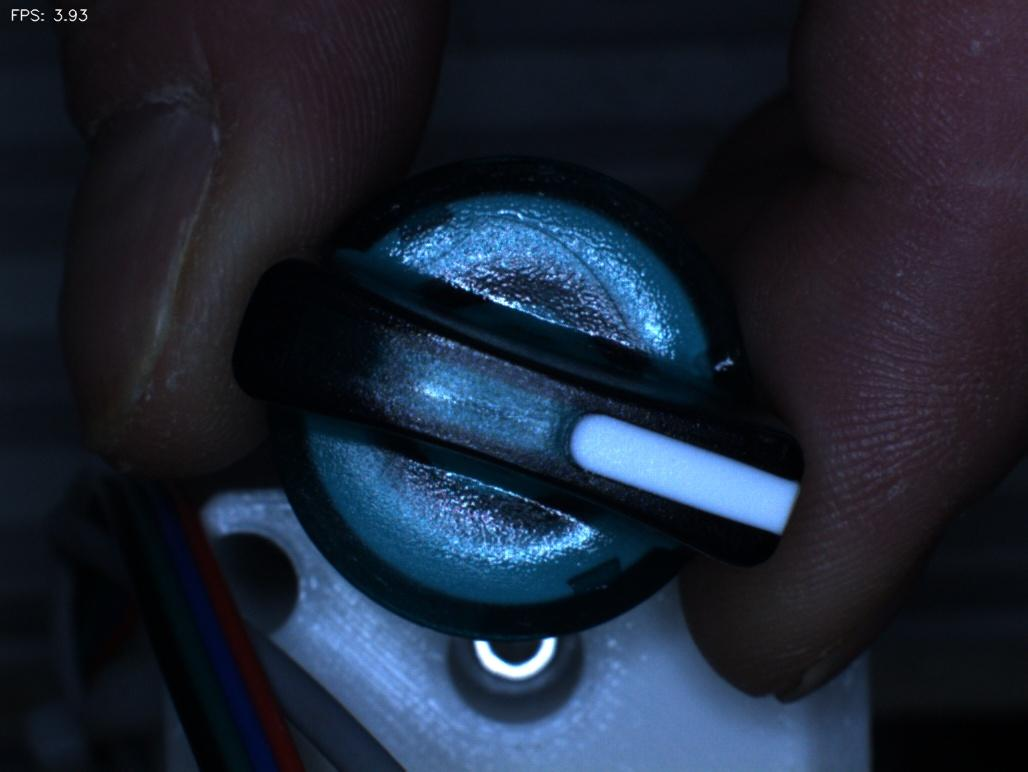Choc: (682, 315, 775, 402)
